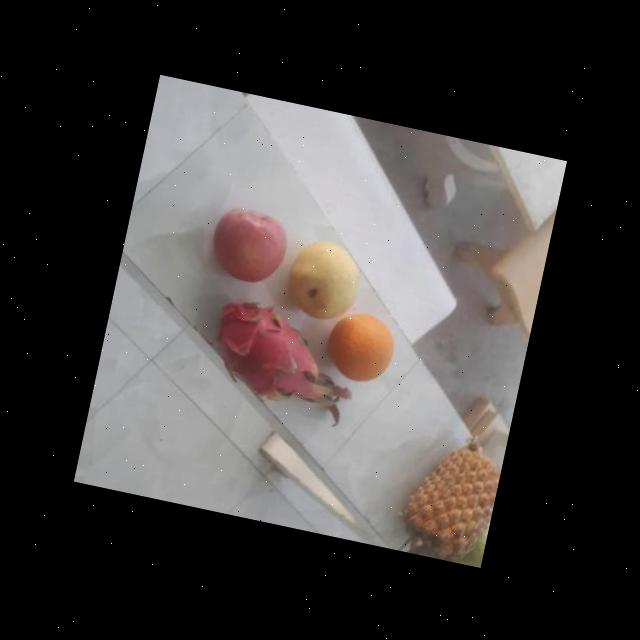apple: (204, 200, 292, 289)
orange: (322, 302, 401, 388)
pear: (280, 232, 366, 328)
pineapple: (394, 436, 504, 566)
pitaya: (205, 289, 336, 406)
